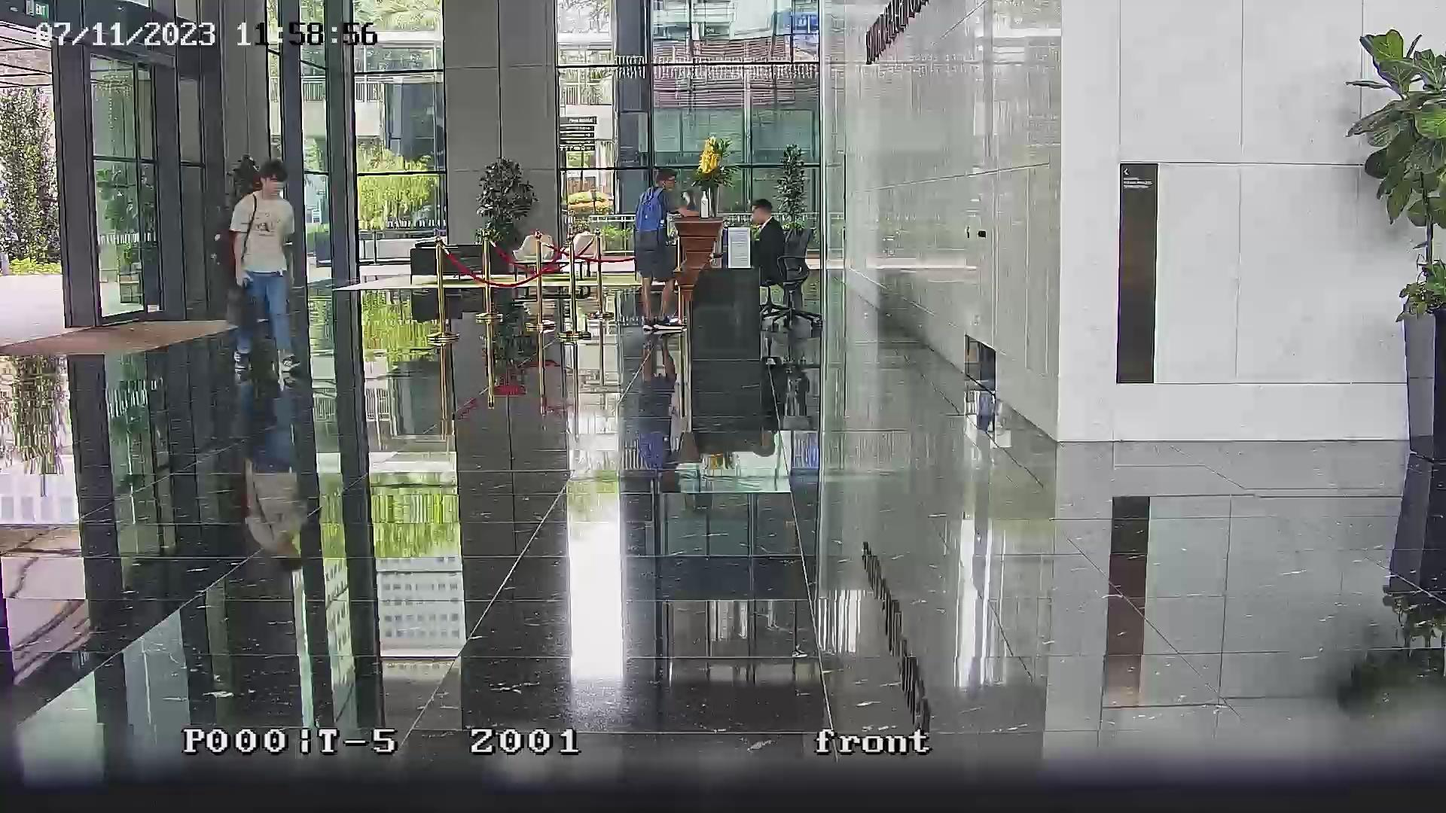person: (227, 159, 299, 379), (633, 165, 683, 330), (749, 198, 786, 284)
